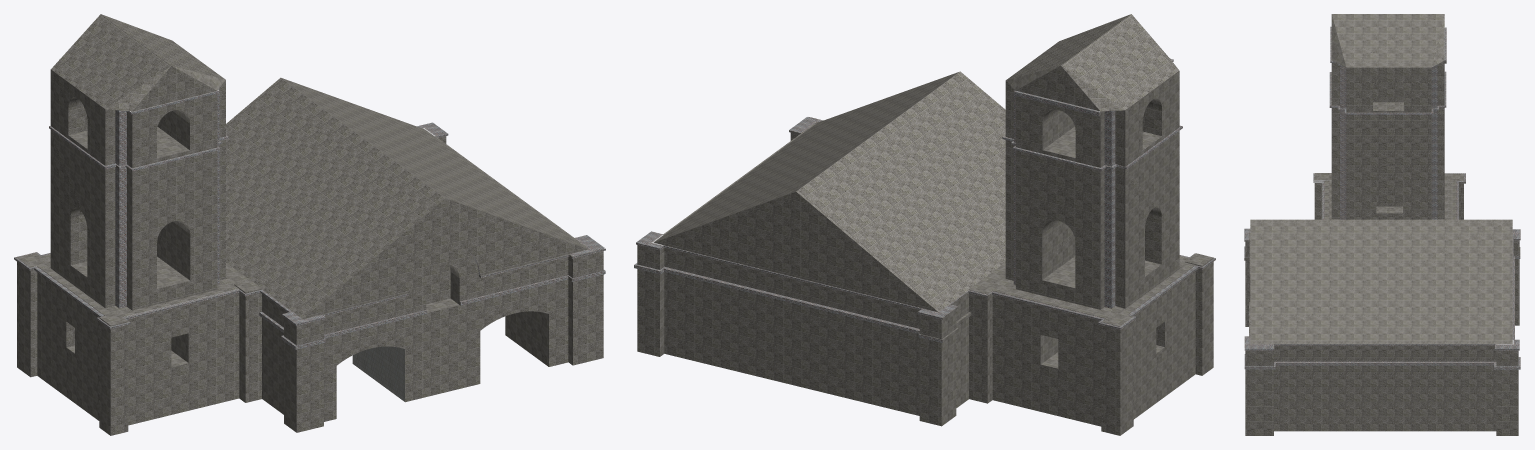
Rendered from albayrealitycagsawa.glb.
The picture shows the model from 3 angles, left to right: view 1: azimuth 30°, elevation 25°; view 2: azimuth 150°, elevation 25°; view 3: azimuth 270°, elevation 25°; orthographic projection. The views are drawn at different scales.
Visible parts, largest first — view 1: _(Loose Entity); view 2: _(Loose Entity); view 3: _(Loose Entity).
Boxes of the visible parts, x1,y1,x2,y2 form: _(Loose Entity): (14,14,605,435); _(Loose Entity): (634,14,1215,435); _(Loose Entity): (1244,14,1520,435).
Size of the model in its own units: 23.24 by 16.89 by 15.41.
4 materials, 3 textured.
